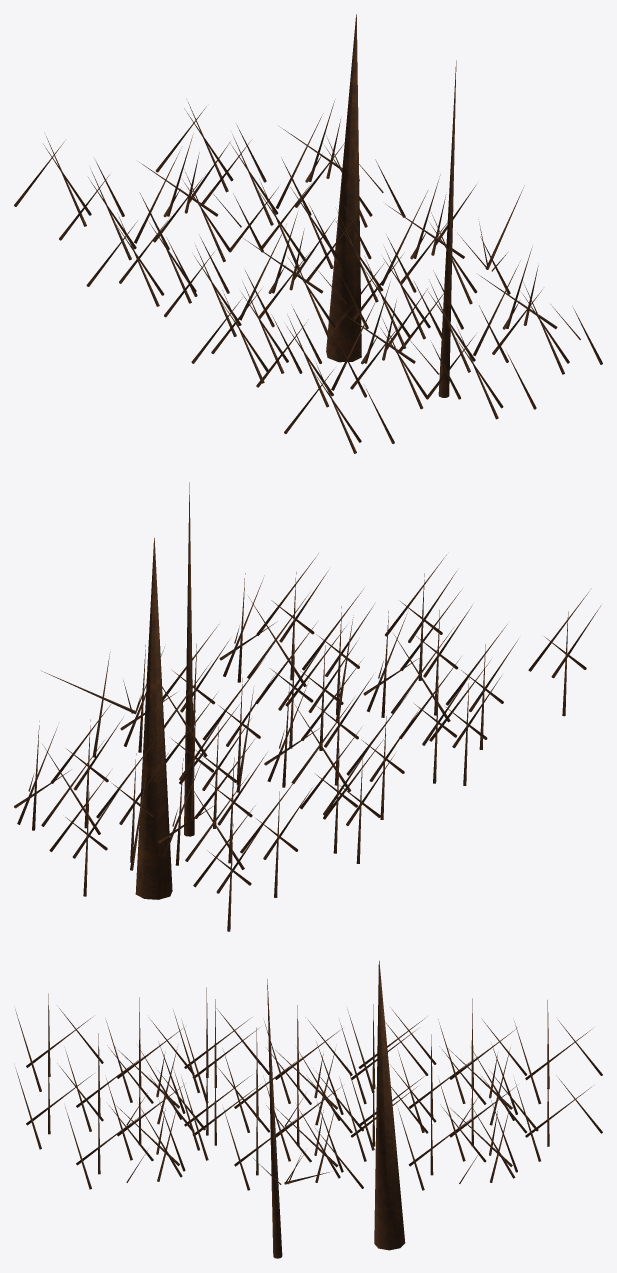
The model's file is heaven pokers reimport1.glb.
3 views of the same model, one above another, from view 1: azimuth 30°, elevation 25°; view 2: azimuth 150°, elevation 25°; view 3: azimuth 270°, elevation 25° (orthographic). The views are drawn at different scales.
Visible parts, largest first — view 1: Cylinder_006; view 2: Cylinder_006; view 3: Cylinder_006.
Part boxes in pixels (x1=…): Cylinder_006: x1=14, y1=14, x2=602, y2=453; Cylinder_006: x1=14, y1=482, x2=600, y2=931; Cylinder_006: x1=15, y1=960, x2=602, y2=1258.
Size of the model in its own units: 160 by 137 by 256.
Materials: 1 (1 with a texture image).
